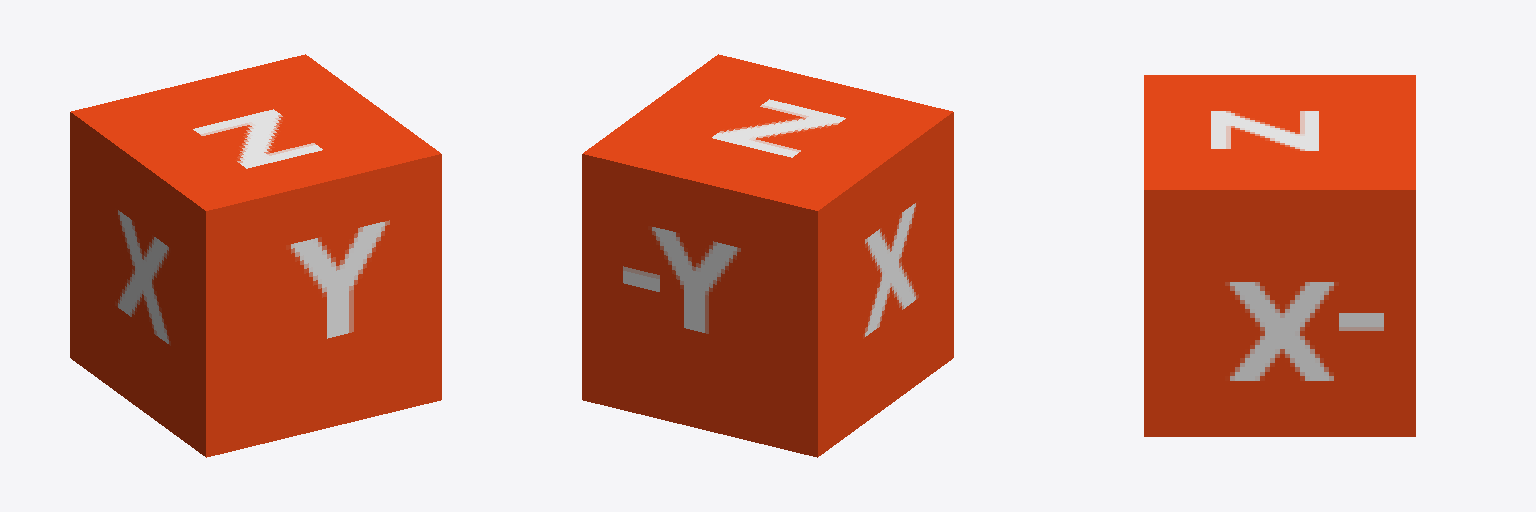
3 renders of one model, left to right at view 1: azimuth 30°, elevation 25°; view 2: azimuth 150°, elevation 25°; view 3: azimuth 270°, elevation 25°, orthographic.
Parts seen in each view (by area): view 1: Cube_Cube.008; view 2: Cube_Cube.008; view 3: Cube_Cube.008.
Part boxes in pixels (x1,y1,x2,y2): Cube_Cube.008: (70,54,441,457); Cube_Cube.008: (582,54,953,457); Cube_Cube.008: (1144,75,1415,436).
Bounding box in the file's own units: 1 × 1 × 1.
1 materials, 1 textured.